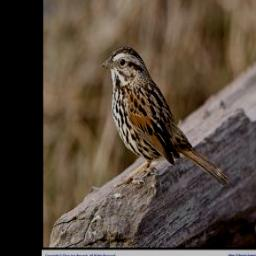Sparrow: (100, 45, 229, 190)
